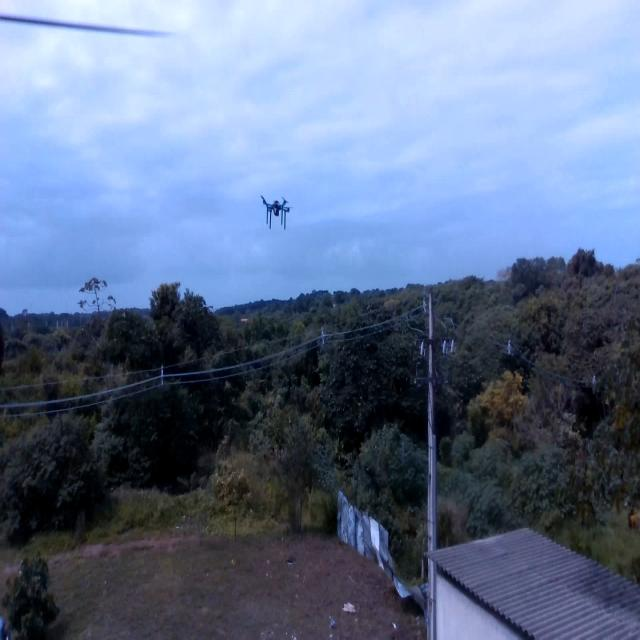-uav-: (251, 184, 309, 238)
